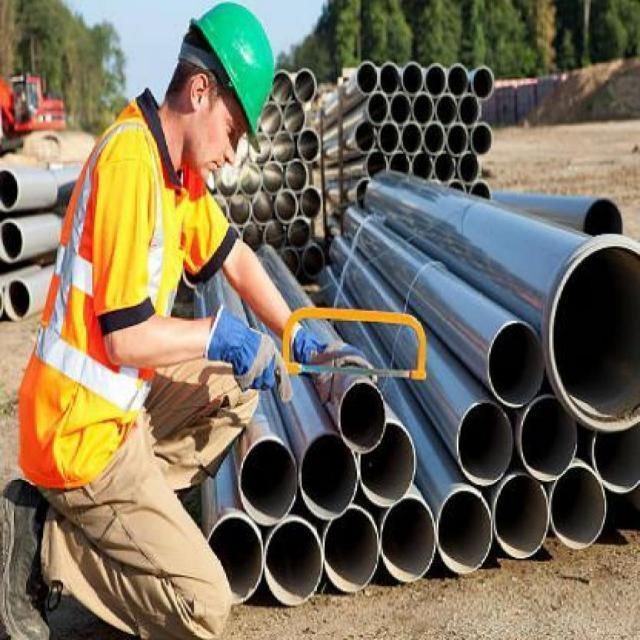pipe: (544, 233, 640, 432), (299, 432, 358, 520), (239, 438, 298, 526), (264, 519, 323, 607), (207, 515, 264, 605), (520, 394, 577, 482), (487, 321, 544, 408), (550, 464, 607, 551), (381, 496, 437, 583), (323, 507, 379, 594), (456, 401, 513, 486), (359, 421, 416, 506), (437, 488, 492, 575), (494, 474, 550, 559), (338, 381, 386, 454), (592, 430, 640, 495), (583, 198, 625, 238), (4, 278, 32, 321), (0, 220, 24, 263), (302, 242, 327, 281), (0, 168, 20, 213), (286, 160, 311, 194), (274, 189, 299, 223), (282, 101, 307, 135), (260, 101, 283, 137), (472, 66, 495, 101), (294, 69, 317, 104), (297, 127, 320, 162), (356, 62, 378, 98), (263, 161, 286, 195), (270, 70, 293, 104), (457, 93, 480, 127), (435, 93, 458, 127), (423, 122, 446, 156), (457, 151, 480, 184), (300, 186, 323, 219), (230, 195, 253, 228), (288, 217, 311, 250), (412, 92, 435, 125), (273, 131, 296, 164), (241, 162, 262, 198), (252, 192, 274, 226), (401, 62, 423, 96), (425, 63, 447, 97), (389, 92, 411, 126), (355, 120, 377, 154), (377, 122, 400, 154), (435, 152, 457, 185), (378, 62, 400, 95), (447, 64, 469, 97), (367, 92, 389, 125), (447, 124, 469, 157), (250, 133, 273, 164), (401, 123, 423, 155), (471, 123, 493, 155), (412, 151, 435, 180), (264, 223, 287, 249), (366, 150, 388, 177), (470, 180, 493, 205), (389, 150, 411, 175)
